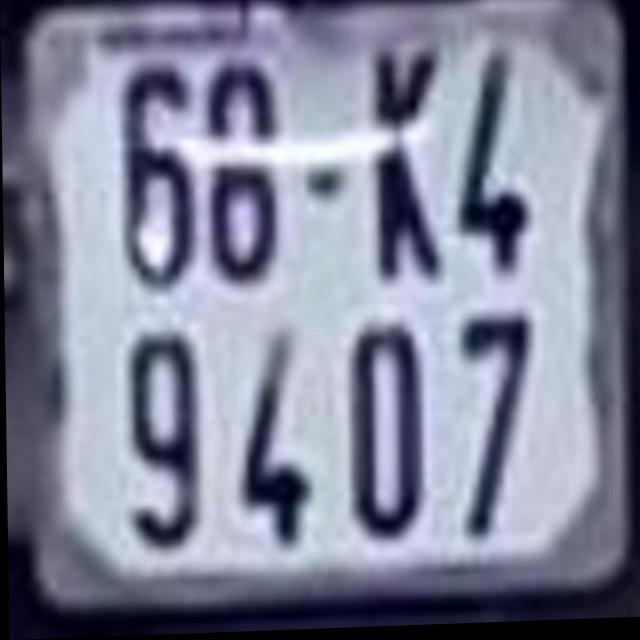0: (349, 320, 423, 547)
4: (242, 328, 315, 553), (461, 48, 531, 273)
6: (117, 57, 194, 288)
7: (454, 308, 536, 549)
8: (205, 63, 288, 294)
9: (128, 333, 199, 551)
K: (374, 48, 443, 283)
